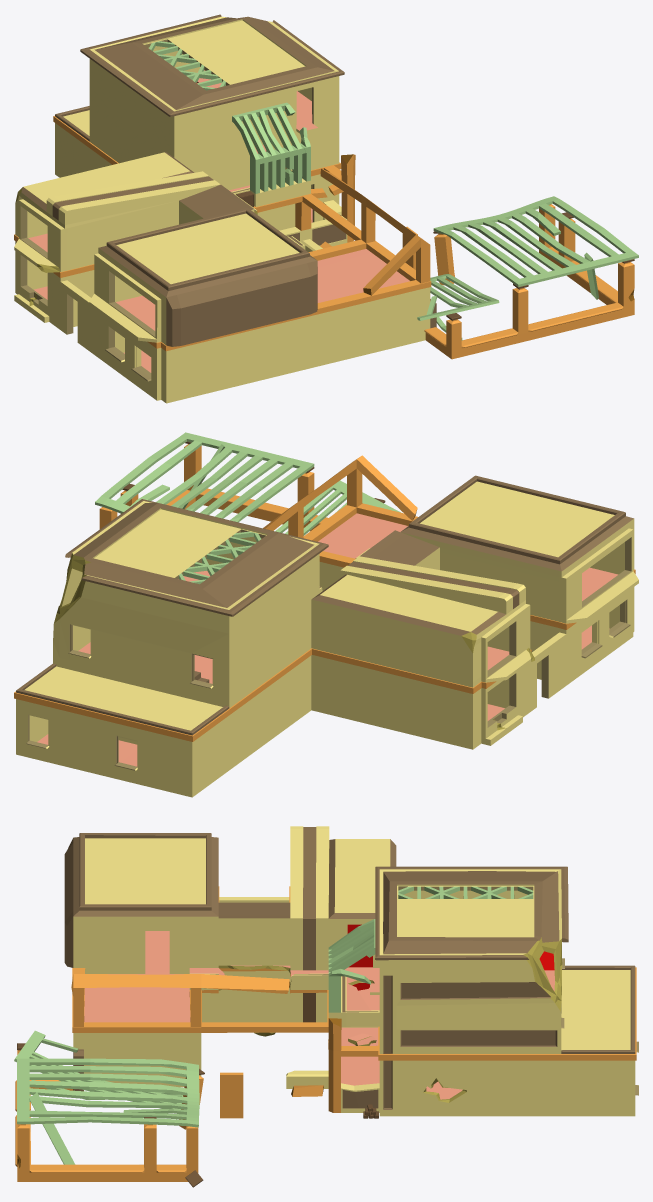
File: Villena 1 neu uberarbeitet.fbx
The picture shows the model from 3 angles, top to bottom: view 1: azimuth 30°, elevation 25°; view 2: azimuth 150°, elevation 25°; view 3: azimuth 270°, elevation 25°; orthographic projection. The views are drawn at different scales.
Parts seen in each view (by area): view 1: Wichtig _LOD0; view 2: Wichtig _LOD0; view 3: Wichtig _LOD0.
Part boxes in pixels (x1,y1,x2,y2): Wichtig _LOD0: [14, 14, 638, 403]; Wichtig _LOD0: [14, 432, 638, 797]; Wichtig _LOD0: [14, 826, 638, 1187].
Size of the model in its own units: 3169 by 1002 by 3406.
